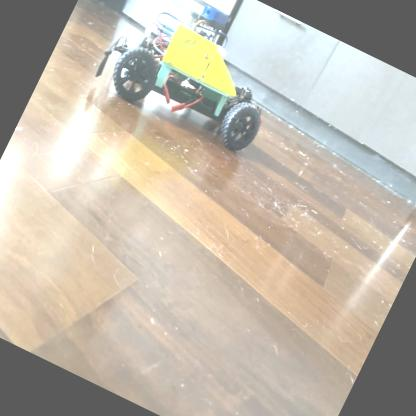mushr_car: (81, 0, 309, 170)
